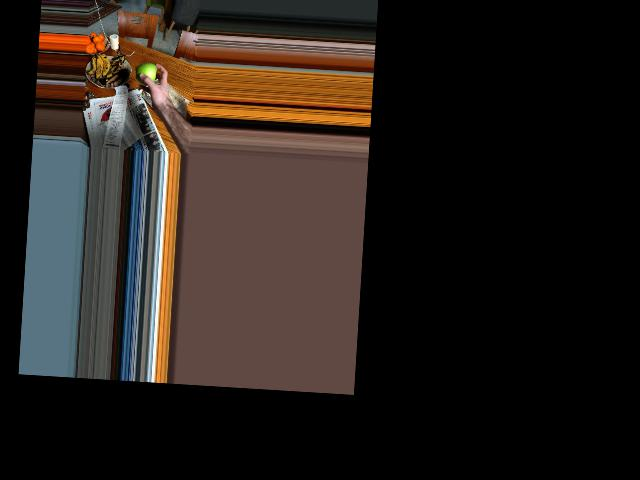apple: (134, 62, 156, 87)
